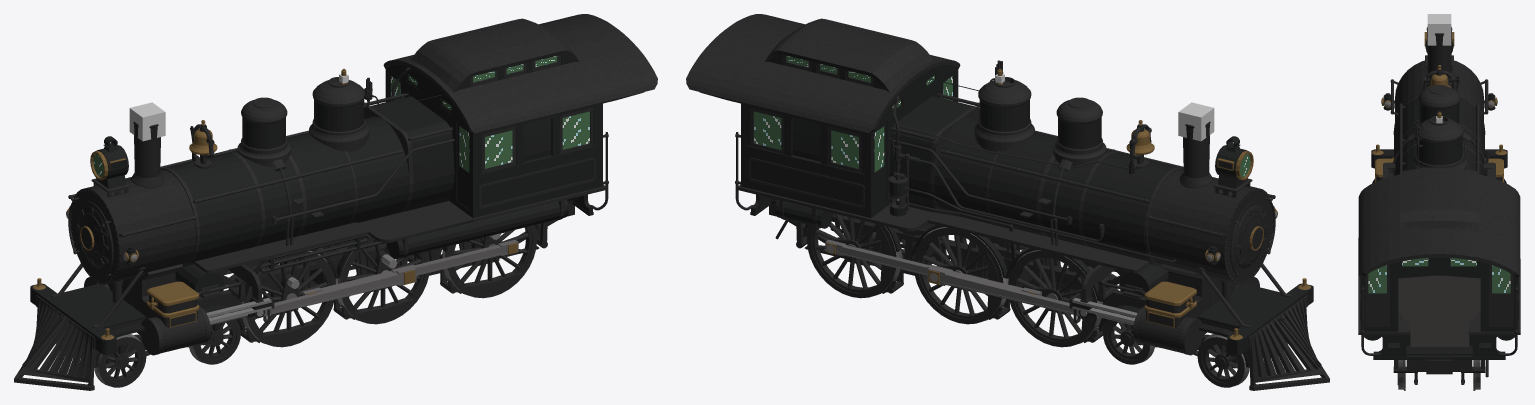
Rendered from rodgers_460.obj.
3 renders of one model, left to right at view 1: azimuth 30°, elevation 25°; view 2: azimuth 150°, elevation 25°; view 3: azimuth 270°, elevation 25°, orthographic. The views are drawn at different scales.
Visible parts, largest first — view 1: CAB_Cube.002, BOILER_SEGMENT_1_Cylinder, FRAME_Cube, SMOKEBOX_Cylinder.001, STEAM_CHEST_Cylinder.010, CAB.001_Cylinder.014, AirTanks_Cylinder.022, WHEEL_DRIVER_1_Cylinder.005, WHEEL_DRIVER_2_Cylinder.006, WHEEL_DRIVER_3_Cylinder.007, HandRails_Cylinder.013, MAIN_ROD_LEFT_Cube.007 (+9 smaller); view 2: CAB_Cube.002, BOILER_SEGMENT_1_Cylinder, FRAME_Cube, SMOKEBOX_Cylinder.001, STEAM_CHEST_Cylinder.010, CAB.001_Cylinder.014, WHEEL_DRIVER_2_Cylinder.006, WHEEL_DRIVER_1_Cylinder.005, WHEEL_DRIVER_3_Cylinder.007, HandRails_Cylinder.013, MAIN_ROD_RIGHT_Cube.005, BOGEY_FRONT_WHEEL_1_Cylinder.009 (+13 smaller); view 3: CAB_Cube.002, BOILER_SEGMENT_1_Cylinder, FIREBOX_Cylinder.002, SMOKEBOX_Cylinder.001, FRAME_Cube, CAB.001_Cylinder.014, HandRails_Cylinder.013, PARTICLE_CHIMNEY_1_Cylinder.024, STEAM_CHEST_Cylinder.010, BELL_Cylinder.011, WHEEL_DRIVER_3_Cylinder.007, MarkerLights_FULLBRIGHT_Cylinder.023 (+5 smaller).
Boxes of the visible parts, box(x1,y1,x2,y2) form: CAB_Cube.002: box(383, 14, 657, 217); BOILER_SEGMENT_1_Cylinder: box(160, 68, 551, 266); FRAME_Cube: box(14, 204, 574, 390); SMOKEBOX_Cylinder.001: box(70, 121, 195, 302); STEAM_CHEST_Cylinder.010: box(84, 264, 274, 355); CAB.001_Cylinder.014: box(194, 184, 606, 273); AirTanks_Cylinder.022: box(259, 199, 568, 272); WHEEL_DRIVER_1_Cylinder.005: box(224, 250, 335, 347); WHEEL_DRIVER_2_Cylinder.006: box(314, 235, 429, 324); WHEEL_DRIVER_3_Cylinder.007: box(412, 225, 537, 298); HandRails_Cylinder.013: box(68, 93, 452, 277); MAIN_ROD_LEFT_Cube.007: box(264, 266, 416, 316); CAB_Cube.002: box(686, 14, 960, 217); BOILER_SEGMENT_1_Cylinder: box(792, 68, 1183, 266); FRAME_Cube: box(769, 204, 1329, 390); SMOKEBOX_Cylinder.001: box(1148, 121, 1273, 302); STEAM_CHEST_Cylinder.010: box(1069, 264, 1259, 355); CAB.001_Cylinder.014: box(737, 184, 1149, 273); WHEEL_DRIVER_2_Cylinder.006: box(914, 227, 1029, 324); WHEEL_DRIVER_1_Cylinder.005: box(1008, 250, 1118, 347); WHEEL_DRIVER_3_Cylinder.007: box(806, 214, 931, 298); HandRails_Cylinder.013: box(891, 93, 1275, 277); MAIN_ROD_RIGHT_Cube.005: box(927, 266, 1079, 316); BOGEY_FRONT_WHEEL_1_Cylinder.009: box(1197, 330, 1288, 387); CAB_Cube.002: box(1358, 167, 1520, 359); BOILER_SEGMENT_1_Cylinder: box(1386, 85, 1492, 175); FIREBOX_Cylinder.002: box(1398, 275, 1480, 346); SMOKEBOX_Cylinder.001: box(1395, 27, 1483, 121); FRAME_Cube: box(1371, 144, 1507, 374); CAB.001_Cylinder.014: box(1358, 162, 1520, 334); HandRails_Cylinder.013: box(1390, 79, 1488, 174); PARTICLE_CHIMNEY_1_Cylinder.024: box(1427, 14, 1451, 45); STEAM_CHEST_Cylinder.010: box(1372, 157, 1506, 183); BELL_Cylinder.011: box(1422, 65, 1456, 90); WHEEL_DRIVER_3_Cylinder.007: box(1397, 360, 1480, 390); MarkerLights_FULLBRIGHT_Cylinder.023: box(1381, 93, 1497, 110).
Bounding box in the file's own units: 12.66 × 5.03 × 3.28.
Materials: 10 (9 with a texture image).
